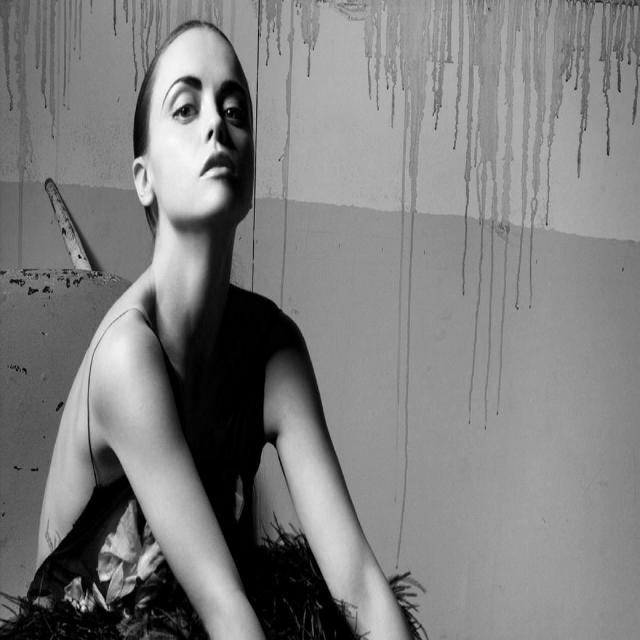no-earmuff: (130, 146, 162, 222)
